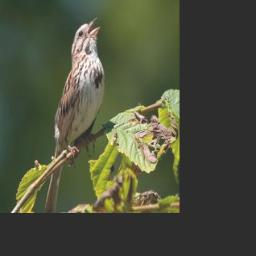Sparrow: (44, 16, 105, 210)
